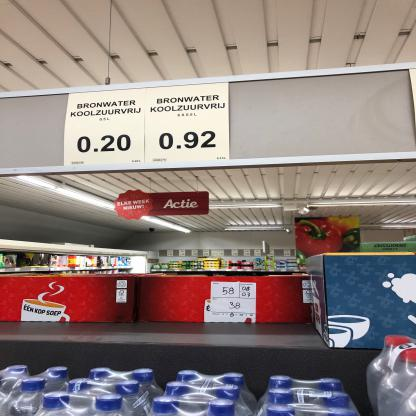prtg: (145, 82, 232, 164), (64, 90, 147, 167)
